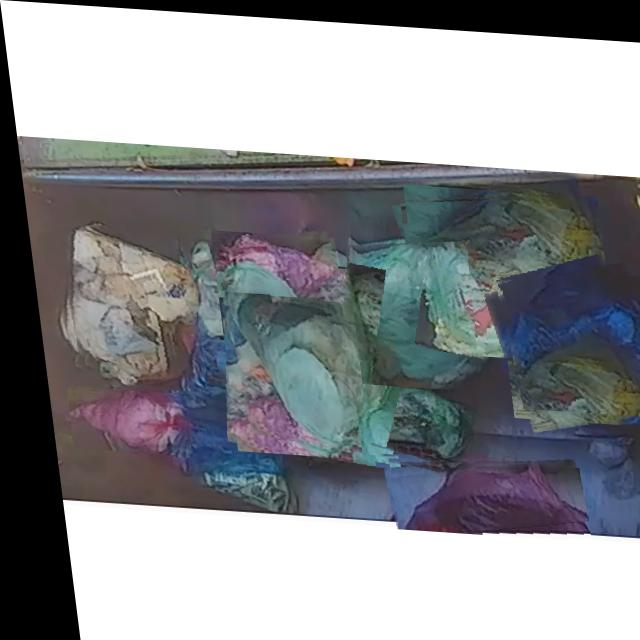general_trashbag: (402, 187, 593, 352), (218, 261, 380, 447), (61, 224, 189, 386), (341, 237, 470, 386), (348, 382, 461, 455)
other_trashbag: (500, 270, 640, 408), (390, 456, 576, 527), (209, 233, 330, 295), (59, 393, 174, 452)
